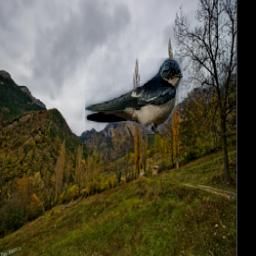Swallow: (85, 58, 183, 134)
